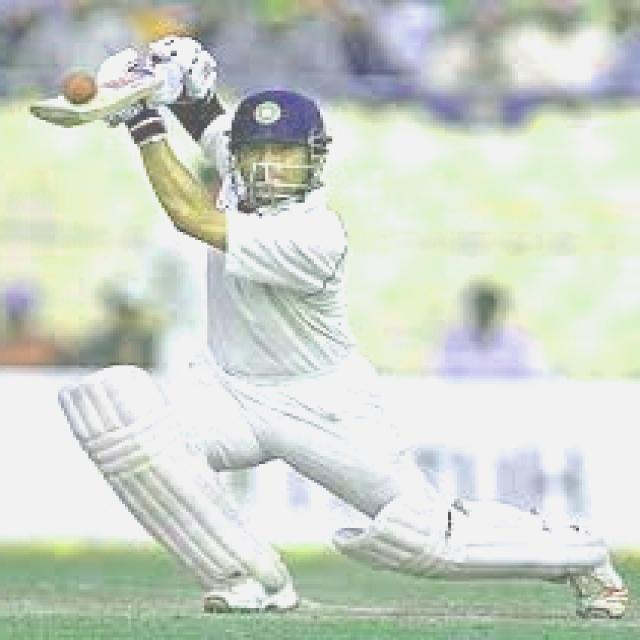bat: (29, 67, 162, 129)
toe: (35, 105, 82, 125)
